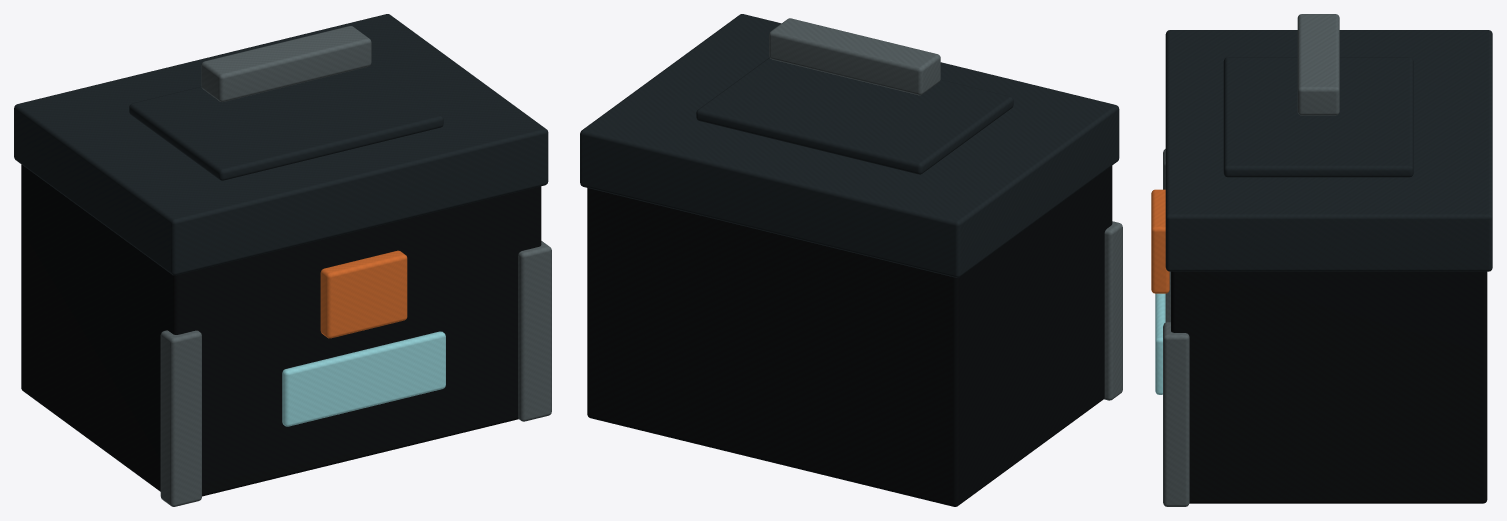
Rendered from SpecimenTransportCase.glb.
The picture shows the model from 3 angles, left to right: view 1: azimuth 30°, elevation 25°; view 2: azimuth 150°, elevation 25°; view 3: azimuth 270°, elevation 25°; orthographic projection.
Visible parts, largest first — view 1: SpecimenTransportCase_Mesh; view 2: SpecimenTransportCase_Mesh; view 3: SpecimenTransportCase_Mesh.
Boxes of the visible parts, x1,y1,x2,y2 form: SpecimenTransportCase_Mesh: (14, 14, 551, 506); SpecimenTransportCase_Mesh: (580, 14, 1122, 506); SpecimenTransportCase_Mesh: (1151, 14, 1492, 506).
Size of the model in its own units: 0.85 by 0.76 by 0.6475.
5 materials, 5 textured.
